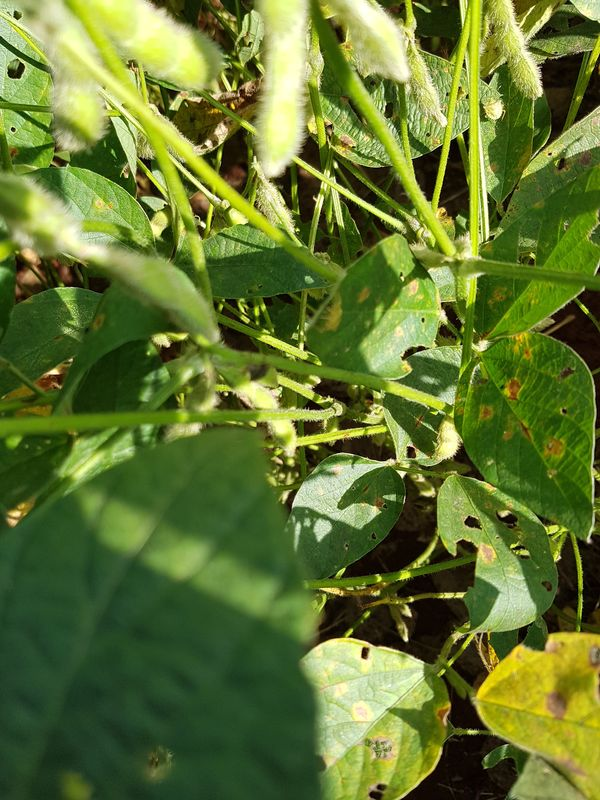Euschistus_heros_ninfa: (473, 90, 513, 126)
